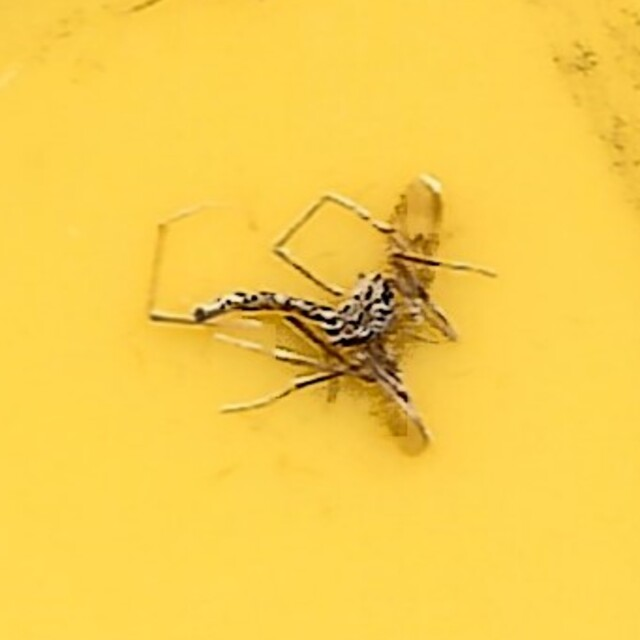Nematocera: (188, 173, 452, 467)
